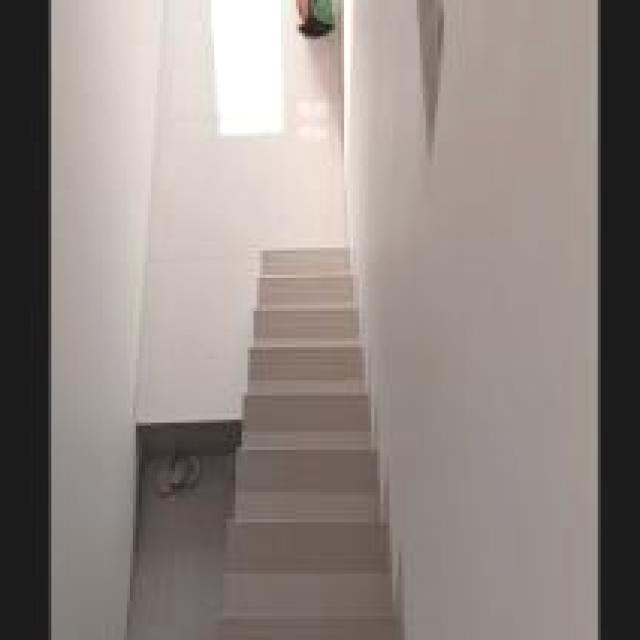downstair: (231, 218, 388, 640)
